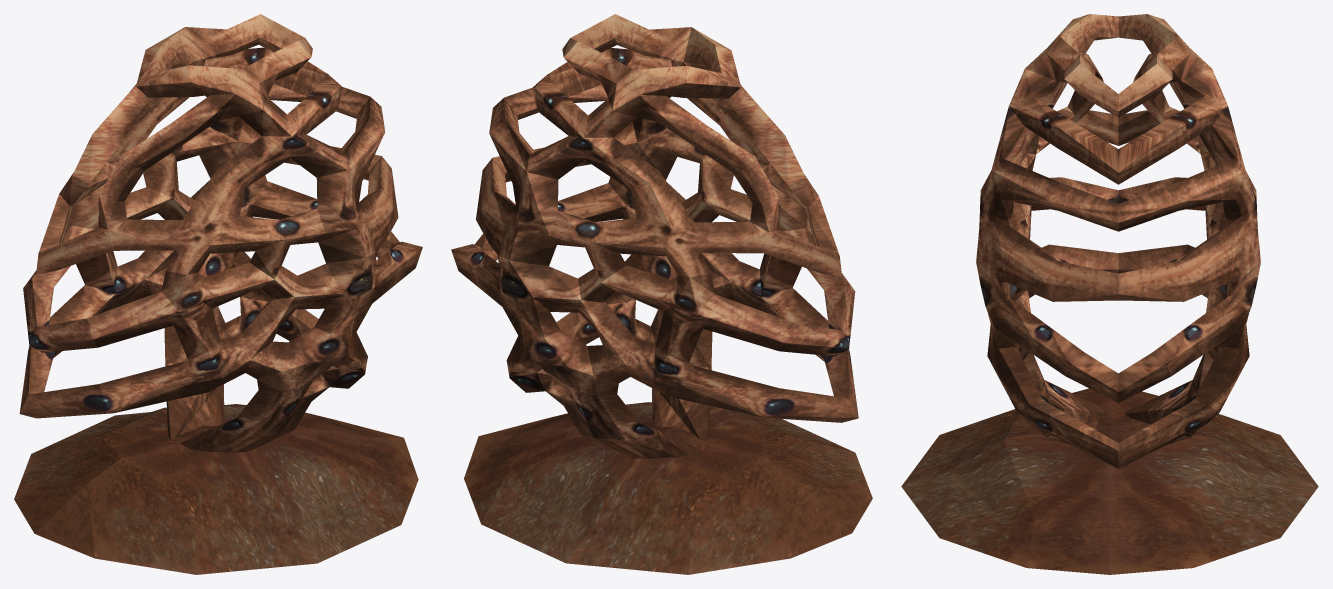
Rendered from goo_flora_3.glb.
3 renders of one model, left to right at view 1: azimuth 30°, elevation 25°; view 2: azimuth 150°, elevation 25°; view 3: azimuth 270°, elevation 25°, orthographic. The views are drawn at different scales.
Parts seen in each view (by area): view 1: goo flora; view 2: goo flora; view 3: goo flora.
Boxes of the visible parts, bbox=[...] form: goo flora: bbox=[14, 14, 422, 574]; goo flora: bbox=[451, 14, 872, 574]; goo flora: bbox=[901, 14, 1318, 574].
Size of the model in its own units: 3.91 by 4.26 by 3.53.
1 material, 1 textured.
